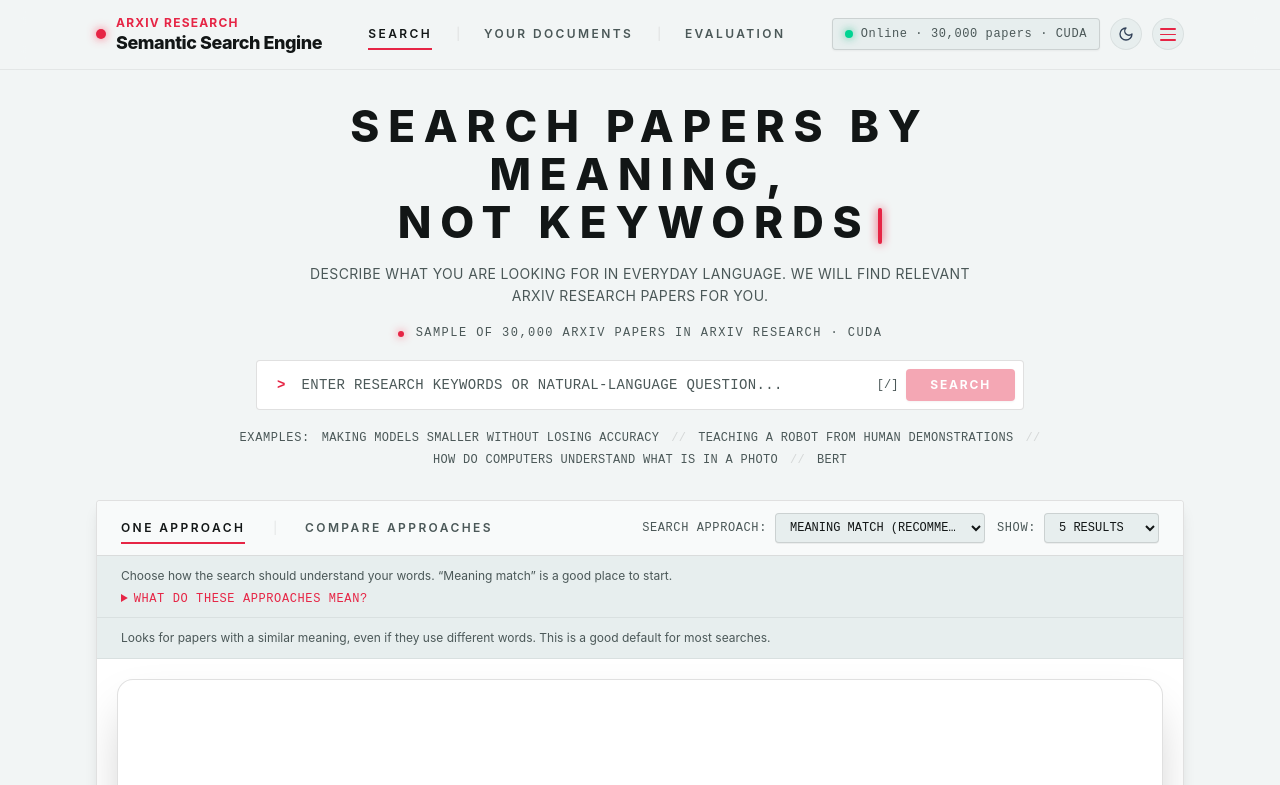
Test case: Your documents workspace view › searches inside documents, highlights query words, and supports Show more/less toggle
Expected: the text "Online · 30,000 papers · CUDA" is shown, [861,25,1087,43]
Click the button "Your documents" at (559, 34), box [484,22,633,46]
(page scrolled)
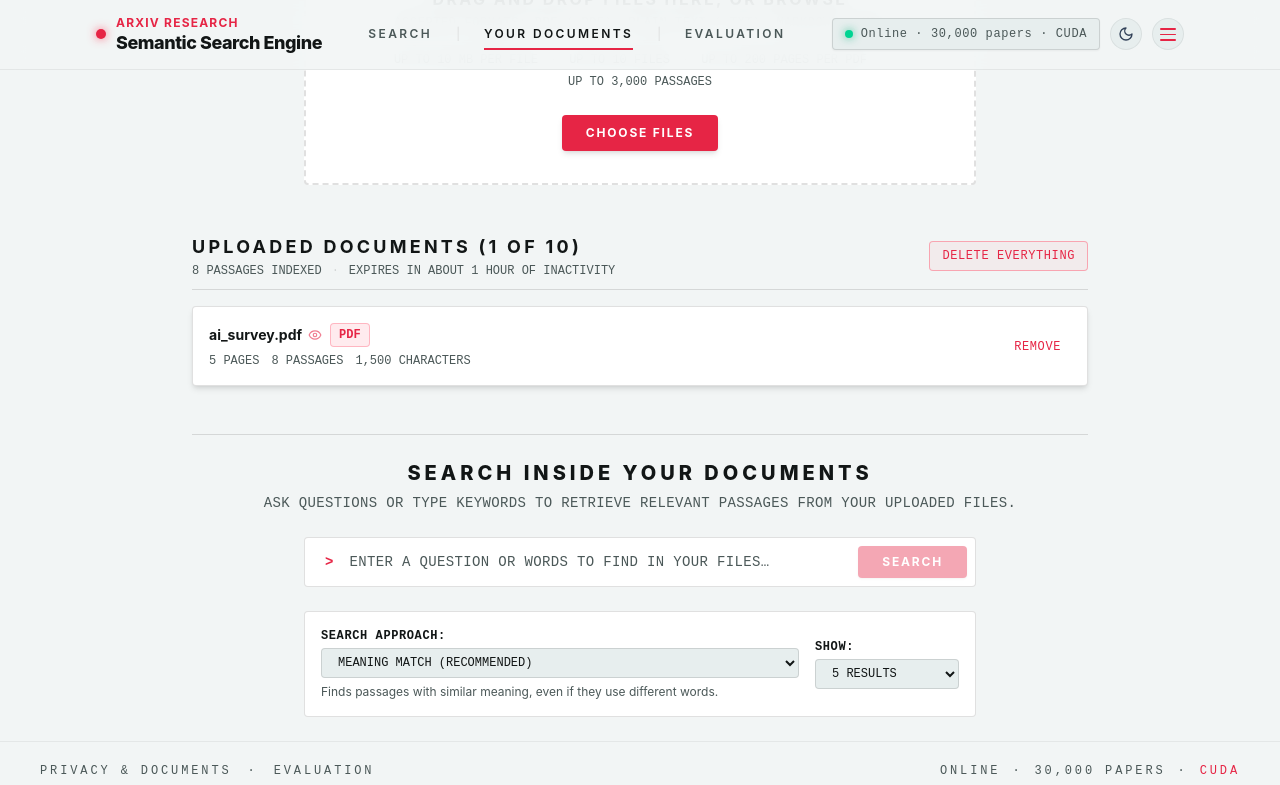
Expected: the text "ai_survey.pdf" is shown, [209,324,302,344]
Type "neural semantic" into the field with placeholder "Enter a question or words to find in your files…" at (600, 562), box [341,546,858,578]
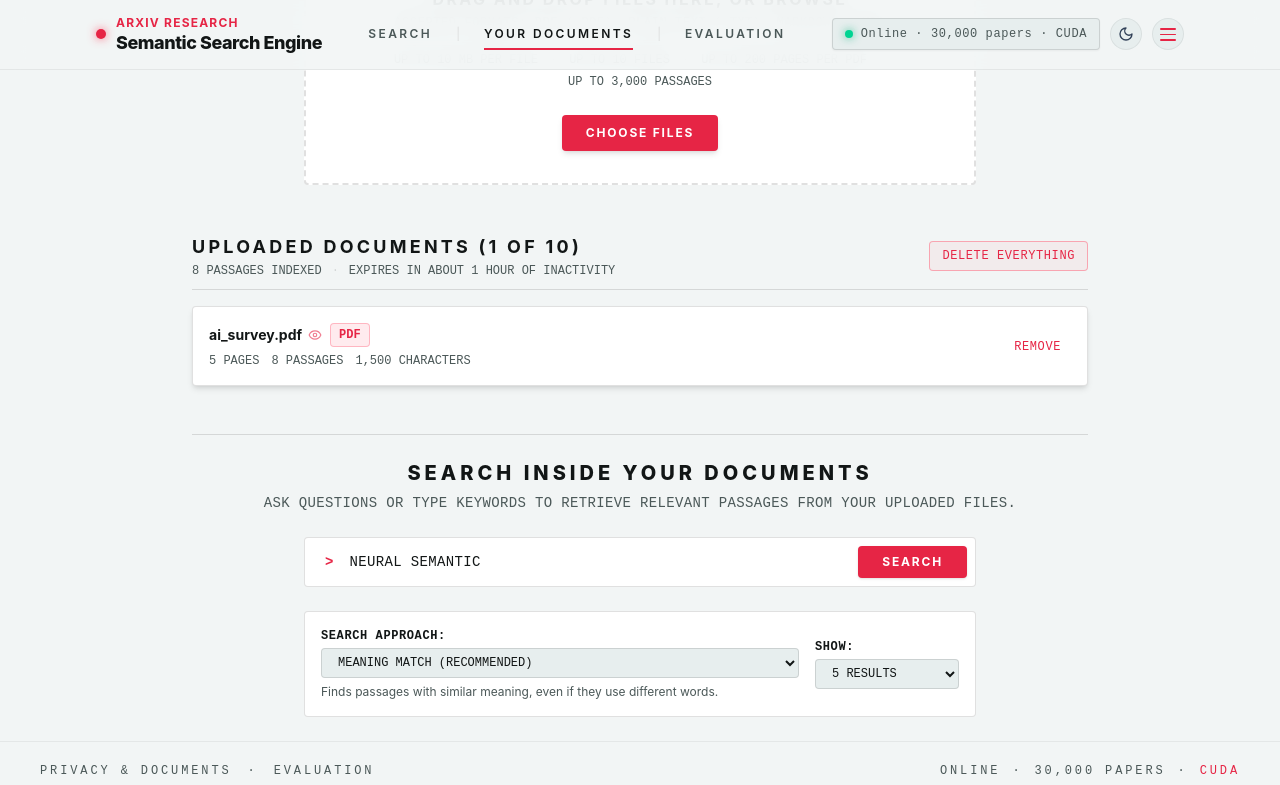
Click the button "Search" below "Search inside your documents" at (913, 562), box [858,546,967,578]
(page scrolled)
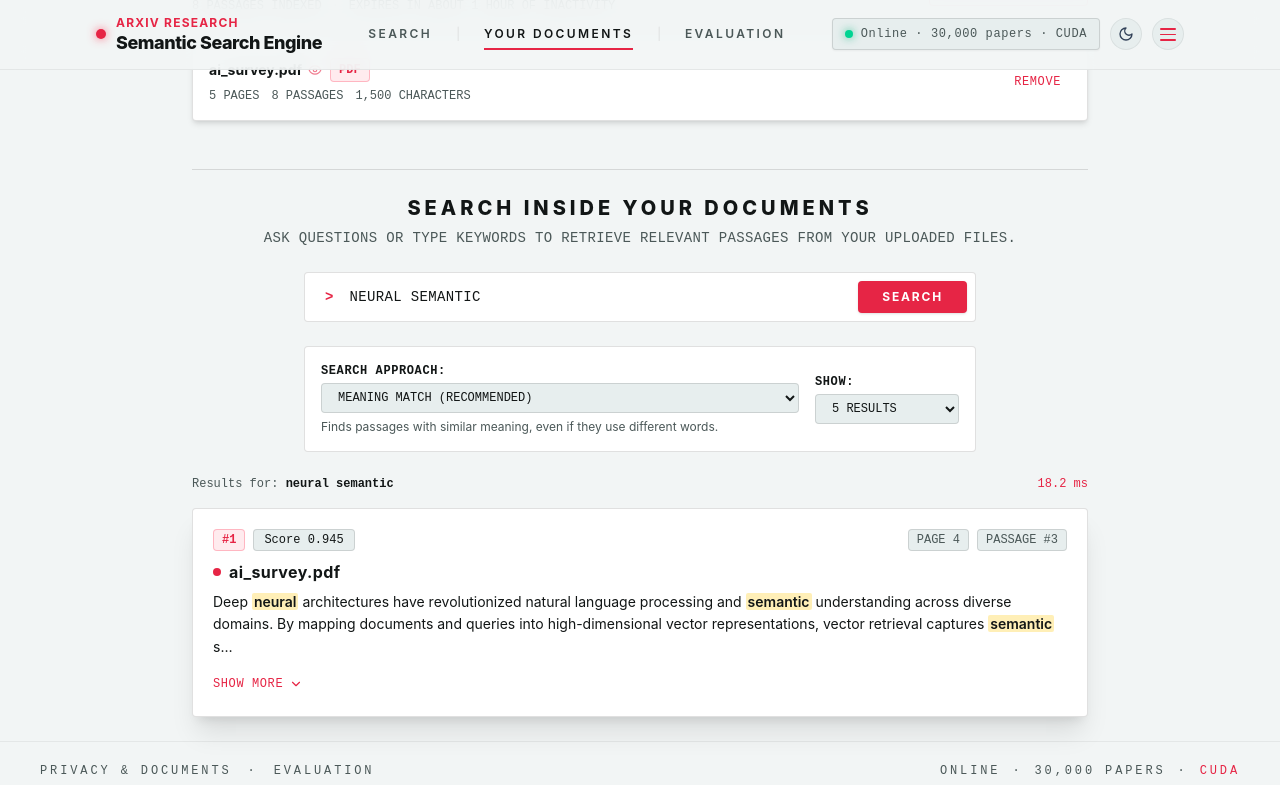
Expected: the text "18.2 ms" is shown, [1038,476,1088,492]
Expected: the text "Score 0.945" is shown, [253,528,355,550]
Expected: the text "Page 4" is shown, [908,528,969,550]
Click the button "Show more" at (258, 684), box [213,672,303,696]
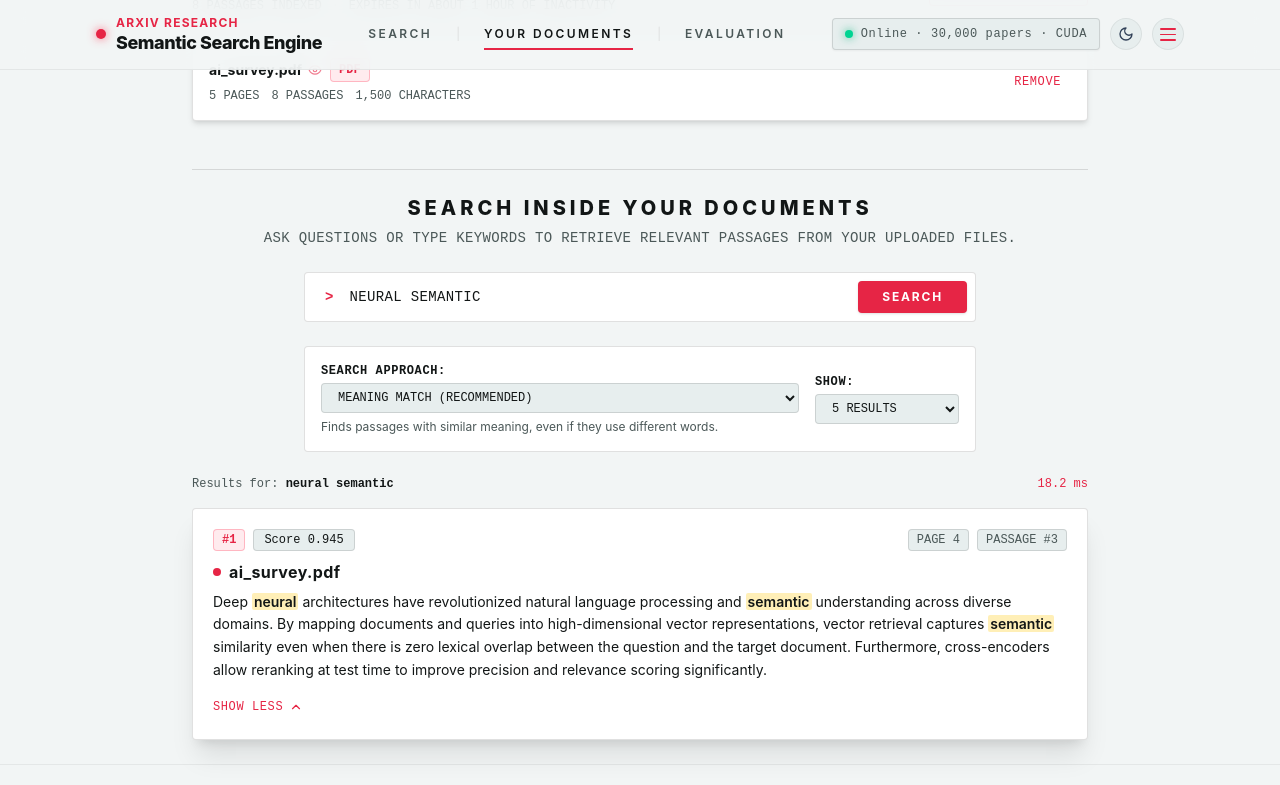
Expected: the button "Show less" is shown, [213,694,303,718]
